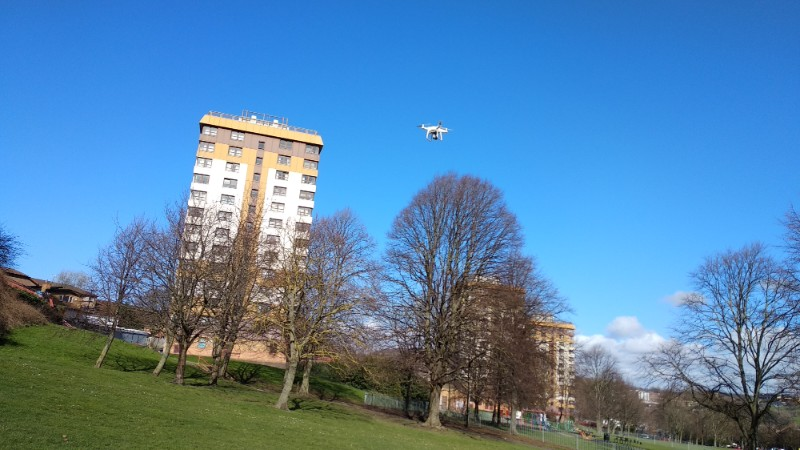drone: (416, 120, 454, 143)
